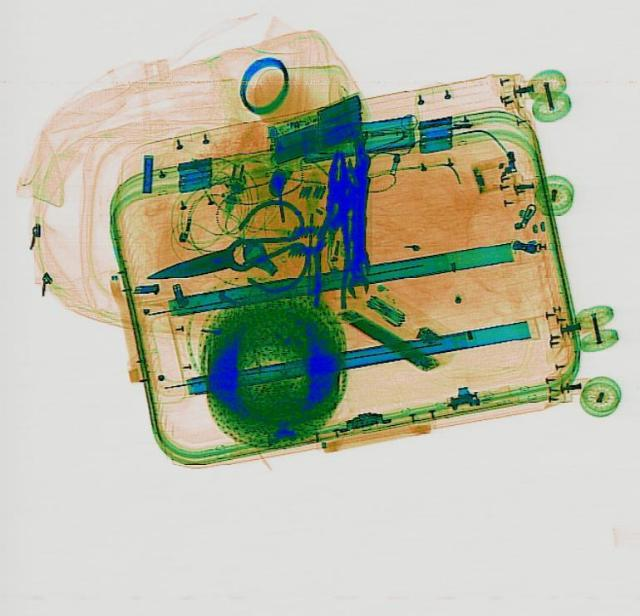Pliers: (310, 150, 356, 307)
Scissors: (130, 192, 318, 316)
Wrench: (346, 154, 370, 297)
